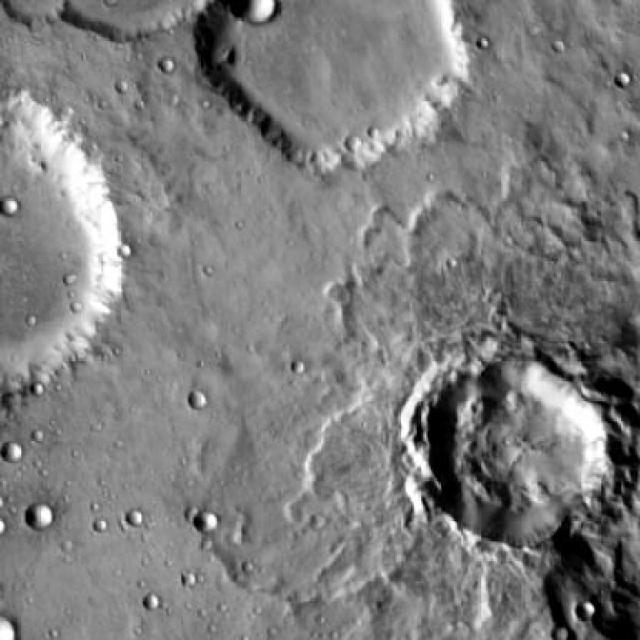crater: (211, 390, 424, 596), (206, 0, 466, 165), (415, 352, 610, 542), (0, 90, 114, 396), (232, 0, 278, 23), (25, 500, 53, 526), (196, 508, 218, 529), (2, 439, 23, 459), (575, 602, 594, 620), (187, 393, 205, 410), (125, 510, 142, 527), (0, 198, 14, 218), (156, 55, 172, 71)
